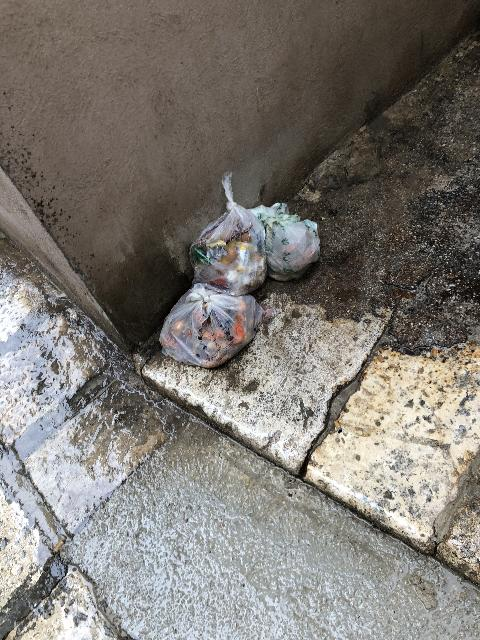Organic -White-: (160, 283, 274, 368), (190, 173, 267, 296), (253, 203, 320, 282)
